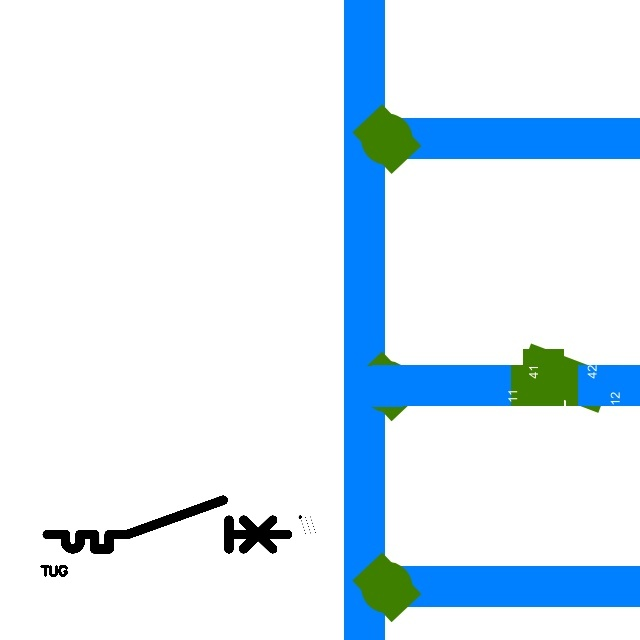interruptor_termomagnetico: (41, 494, 293, 555)
